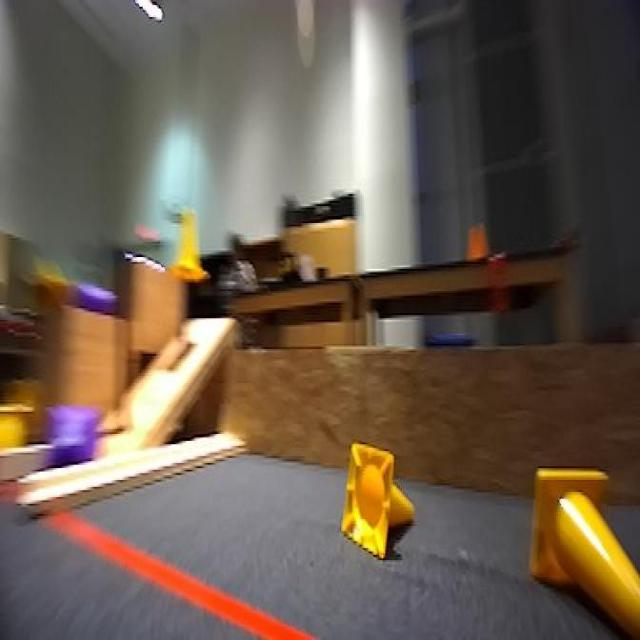frc_cone: (526, 463, 640, 640), (341, 442, 406, 567), (162, 198, 214, 294), (0, 401, 33, 461)
frc_cube: (49, 404, 95, 466), (76, 281, 115, 315)
